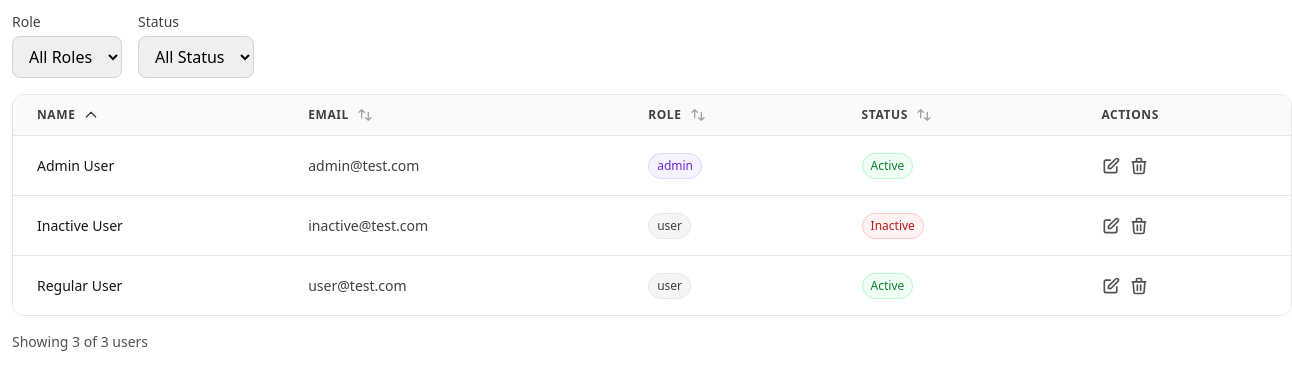
it: UserTable › filters by active status
# Select active status filter
Step 1. Select "Active" in the dropdown labelled "Status" → (196, 57), box [138,36,254,78]
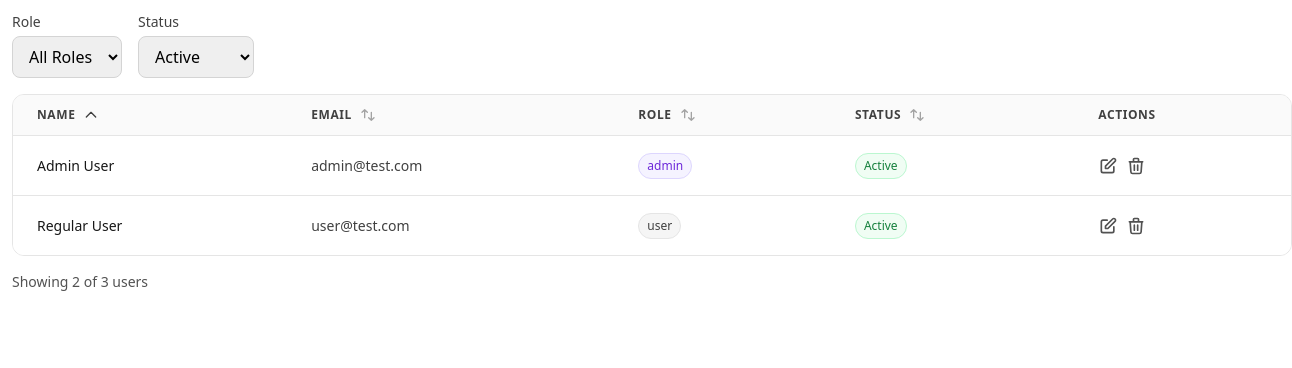
Expected: the text "admin@test.com" is shown, [311,156,422,174]
Expected: the text "inactive@test.com" is gone
